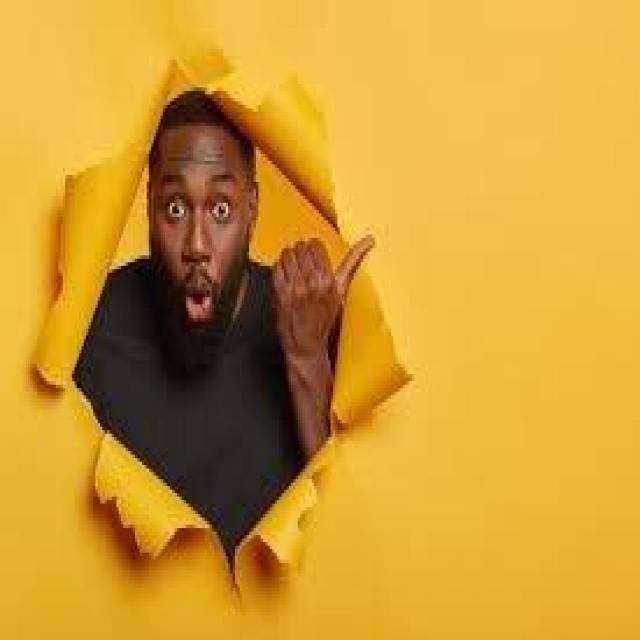person: (42, 35, 370, 595)
